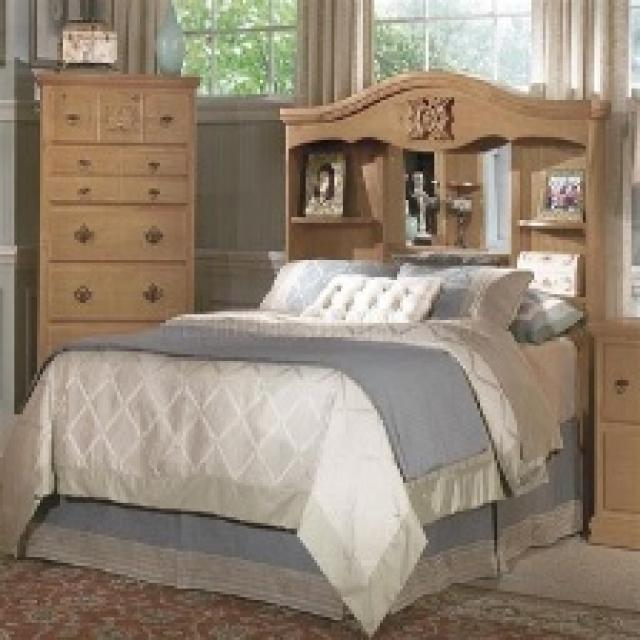Bed: (0, 68, 611, 637)
